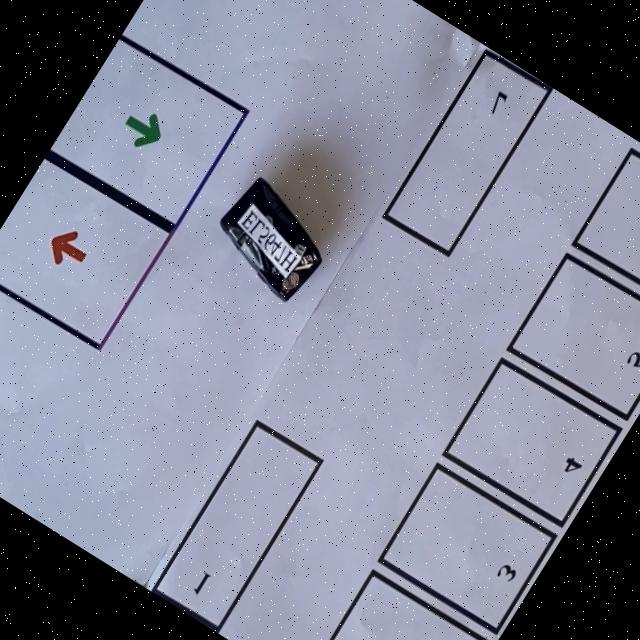car: (197, 164, 355, 316)
